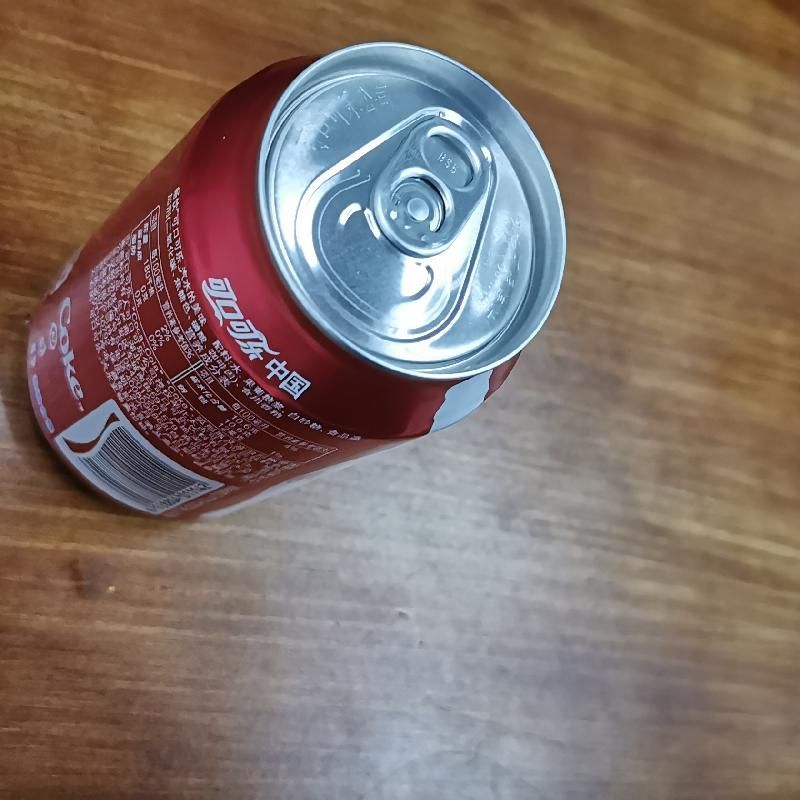cans: (15, 32, 568, 526)
